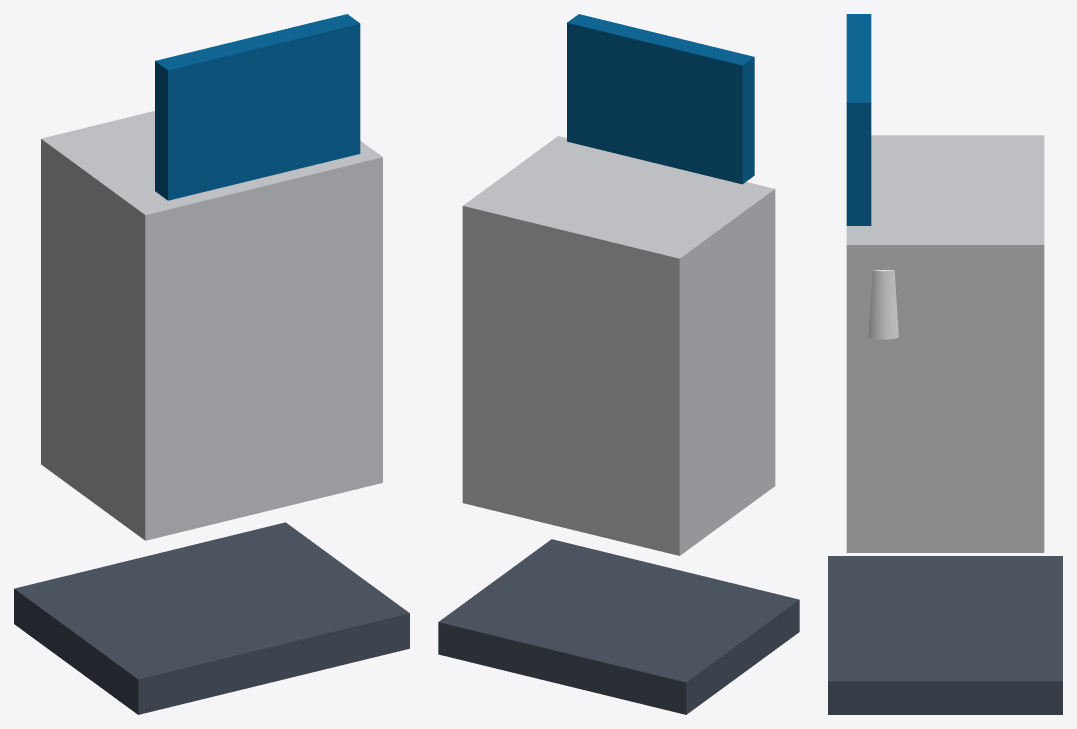
The model's file is parametric-source.glb.
3 views of the same model, side by side, from view 1: azimuth 30°, elevation 25°; view 2: azimuth 150°, elevation 25°; view 3: azimuth 270°, elevation 25° (orthographic). The views are drawn at different scales.
Parts seen in each view (by area): view 1: openclinxr.equipment.fetal_monitor_equipment.body, openclinxr.equipment.fetal_monitor_equipment.base, openclinxr.equipment.fetal_monitor_equipment.screen; view 2: openclinxr.equipment.fetal_monitor_equipment.body, openclinxr.equipment.fetal_monitor_equipment.base, openclinxr.equipment.fetal_monitor_equipment.screen; view 3: openclinxr.equipment.fetal_monitor_equipment.body, openclinxr.equipment.fetal_monitor_equipment.base, openclinxr.equipment.fetal_monitor_equipment.screen, openclinxr.equipment.fetal_monitor_equipment.probe.
Part boxes in pixels (<box>): openclinxr.equipment.fetal_monitor_equipment.body: <box>41,111,382,540</box>; openclinxr.equipment.fetal_monitor_equipment.base: <box>14,522,409,714</box>; openclinxr.equipment.fetal_monitor_equipment.screen: <box>155,14,360,200</box>; openclinxr.equipment.fetal_monitor_equipment.body: <box>462,136,775,555</box>; openclinxr.equipment.fetal_monitor_equipment.base: <box>438,539,799,714</box>; openclinxr.equipment.fetal_monitor_equipment.screen: <box>567,14,754,184</box>; openclinxr.equipment.fetal_monitor_equipment.body: <box>846,135,1044,552</box>; openclinxr.equipment.fetal_monitor_equipment.base: <box>828,556,1062,714</box>; openclinxr.equipment.fetal_monitor_equipment.screen: <box>846,14,871,225</box>; openclinxr.equipment.fetal_monitor_equipment.probe: <box>868,270,898,339</box>.
Bounding box in the file's own units: 0.48 × 1.06 × 0.38.
